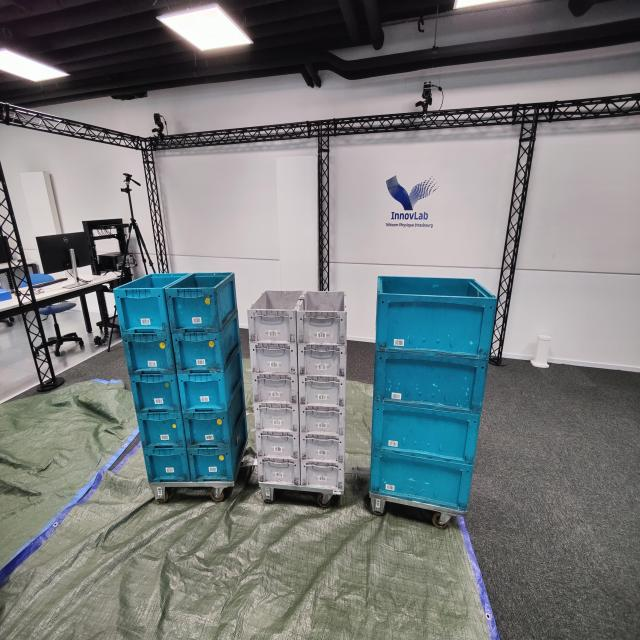Box8G: (246, 286, 305, 342), (296, 288, 348, 347), (297, 340, 348, 379), (298, 373, 346, 408), (248, 344, 299, 376), (300, 460, 346, 494), (253, 430, 301, 462), (300, 433, 345, 467), (253, 403, 300, 435), (250, 376, 300, 406), (257, 457, 301, 490), (300, 407, 347, 437)
BoxB4: (370, 270, 502, 358), (371, 351, 494, 421), (369, 400, 481, 472), (367, 450, 477, 518)
BoxB8: (164, 269, 240, 333), (178, 349, 248, 418), (191, 411, 253, 488), (112, 272, 186, 332), (187, 388, 249, 452), (170, 326, 245, 378), (126, 380, 184, 420), (121, 336, 176, 378), (135, 417, 185, 457), (144, 449, 190, 484)
